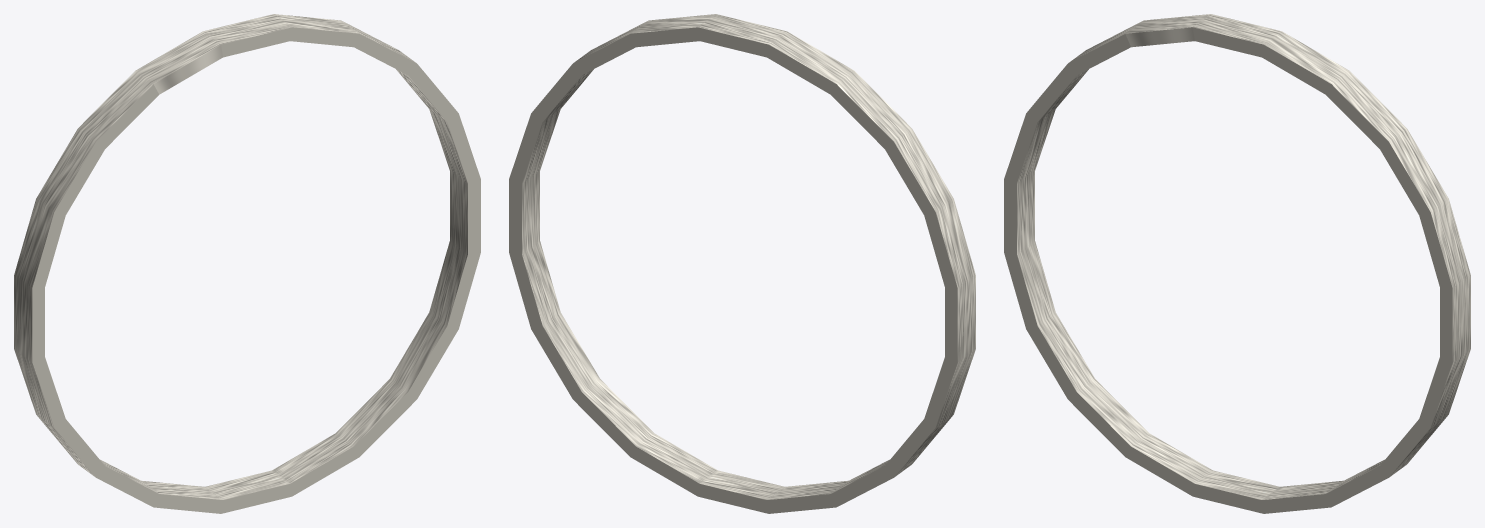
The model's file is f_taihouring5.fbx.
3 renders of one model, left to right at view 1: azimuth 30°, elevation 25°; view 2: azimuth 150°, elevation 25°; view 3: azimuth 330°, elevation 25°, orthographic.
Parts seen in each view (by area): view 1: f_taihou_ring1; view 2: f_taihou_ring1; view 3: f_taihou_ring1.
Boxes of the visible parts, x1=… form: f_taihou_ring1: x1=14, y1=14, x2=480, y2=513; f_taihou_ring1: x1=509, y1=14, x2=975, y2=513; f_taihou_ring1: x1=1004, y1=14, x2=1470, y2=513.
Bounding box in the file's own units: 264 × 264 × 18.56.
1 material, 1 textured.
